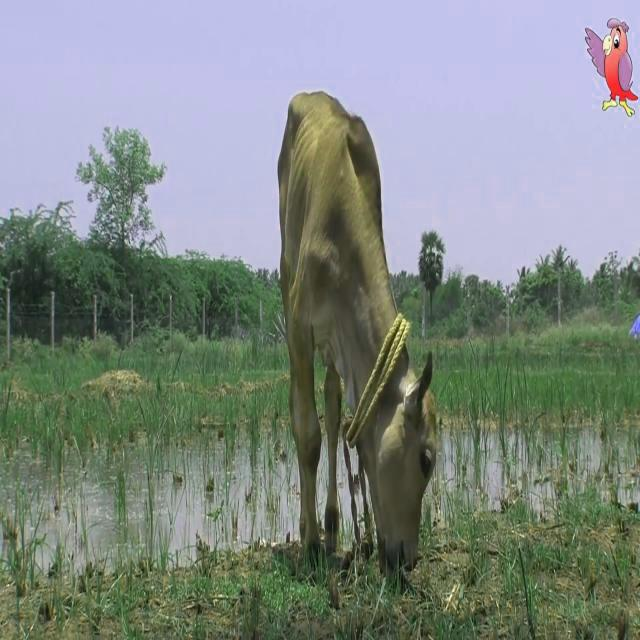cow: (278, 92, 436, 577)
